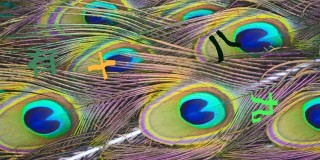九: (250, 92, 281, 123)
八: (209, 29, 244, 64)
十: (86, 51, 116, 81)
有: (27, 46, 58, 77)
